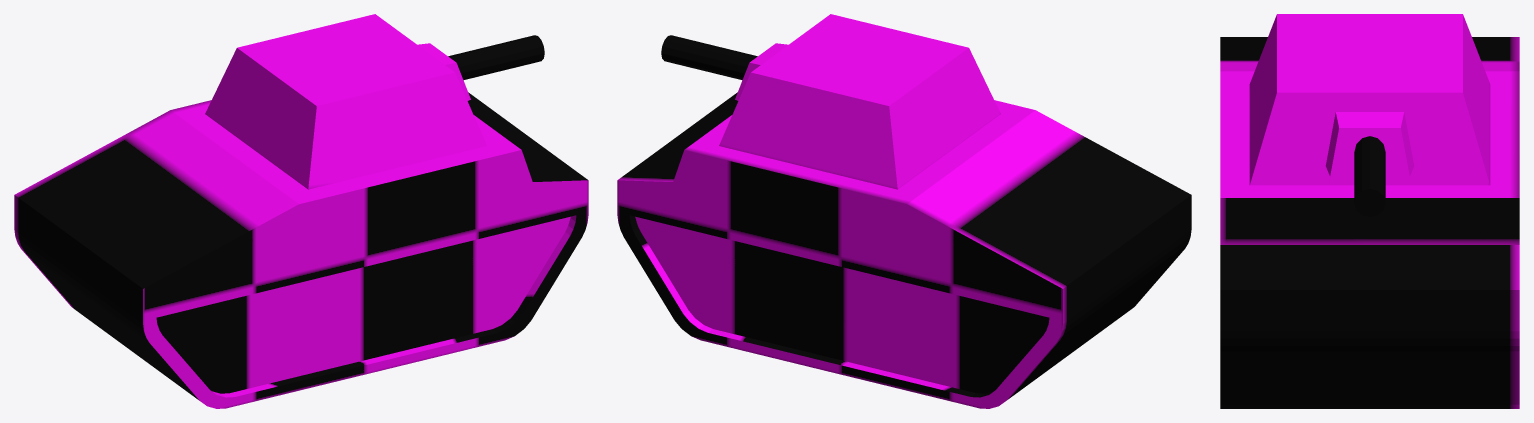
The model's file is lightTankMesh4.fbx.
3 renders of one model, left to right at view 1: azimuth 30°, elevation 25°; view 2: azimuth 150°, elevation 25°; view 3: azimuth 270°, elevation 25°, orthographic. The views are drawn at different scales.
Visible parts, largest first — view 1: Cube; view 2: Cube; view 3: Cube.
Part boxes in pixels (box(x1,y1,x2,y2)): Cube: box(14, 14, 588, 408); Cube: box(617, 14, 1191, 408); Cube: box(1220, 14, 1519, 408).
Size of the model in its own units: 206 by 110 by 100.
